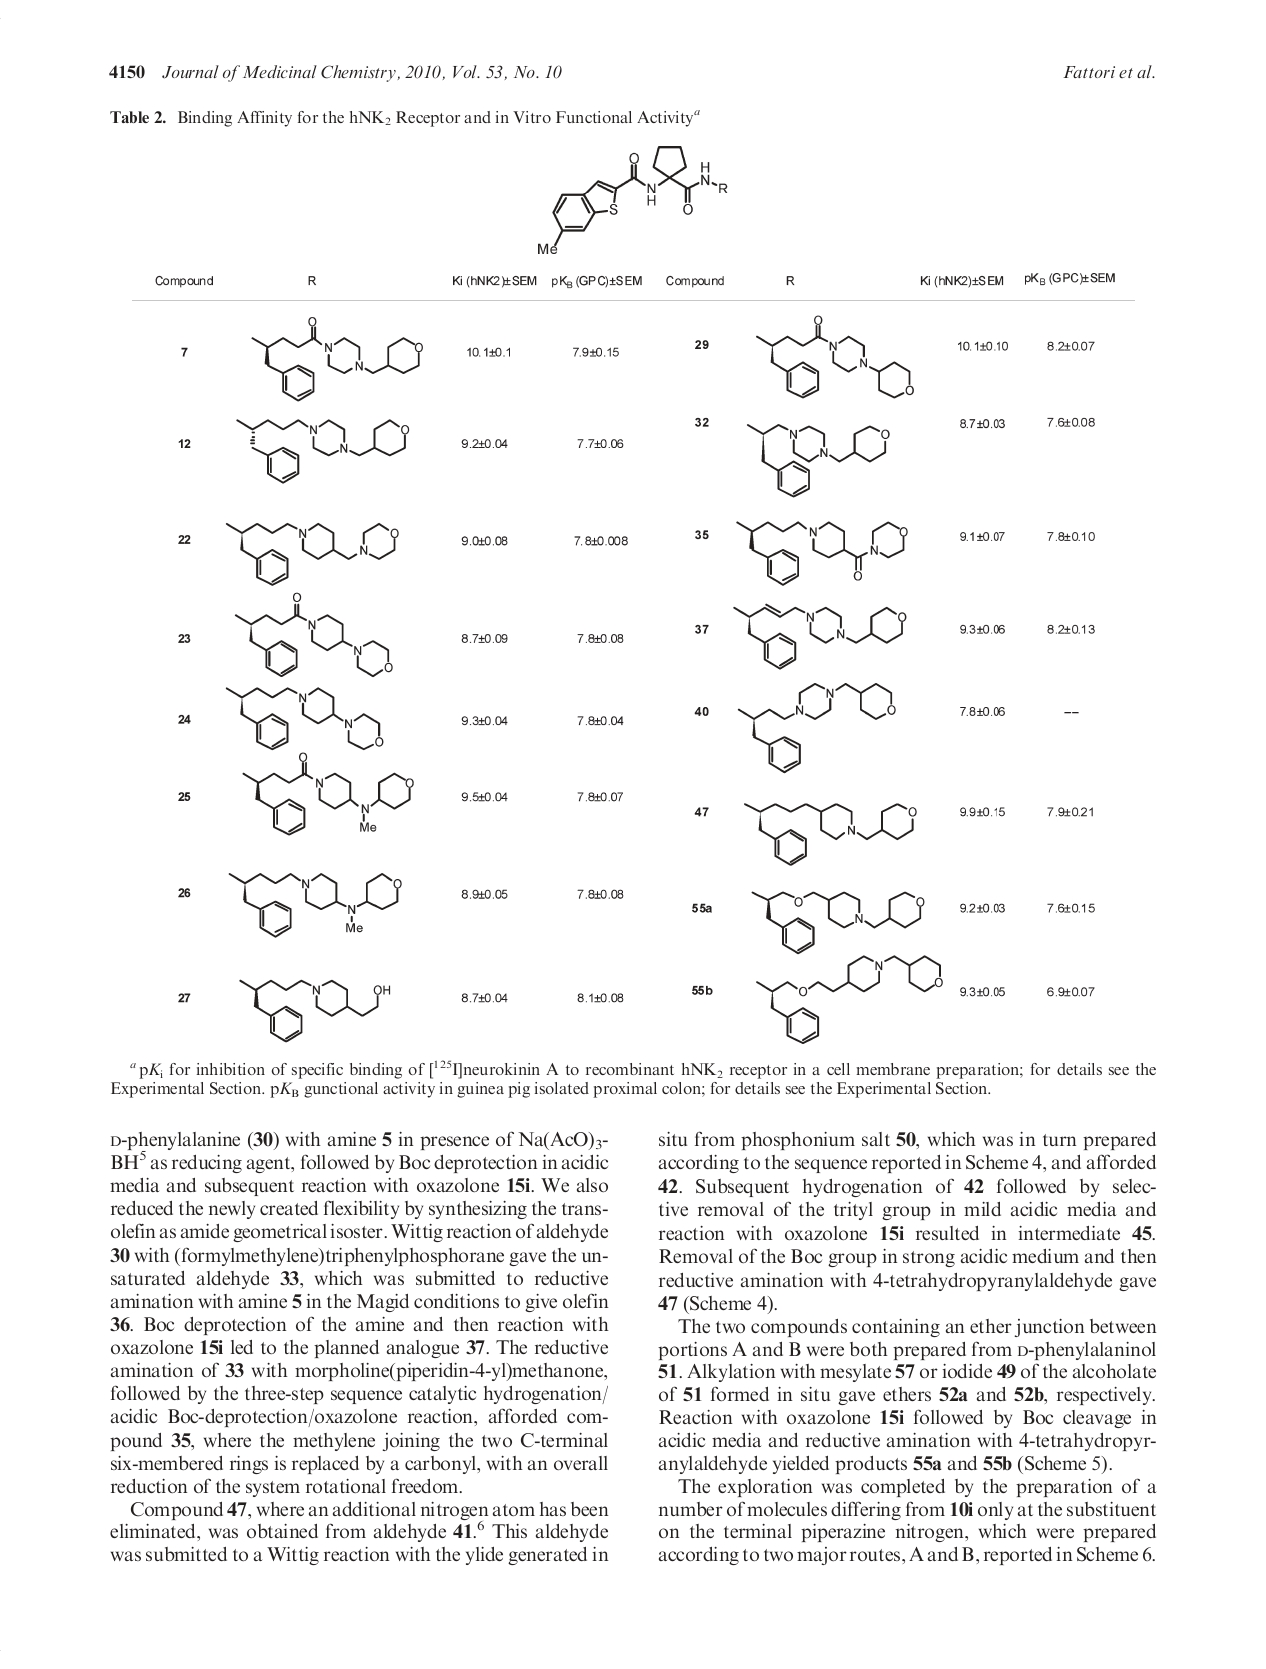exist_molecular: (525, 138, 737, 257), (718, 672, 899, 777), (227, 741, 420, 839), (751, 951, 952, 1045), (242, 313, 432, 403), (759, 305, 916, 408), (225, 590, 402, 680), (723, 793, 926, 867), (731, 508, 916, 588), (731, 594, 914, 674), (233, 410, 416, 485), (221, 515, 406, 589), (735, 412, 896, 497), (225, 864, 406, 939), (746, 882, 923, 958), (225, 681, 392, 758), (227, 973, 404, 1045)
